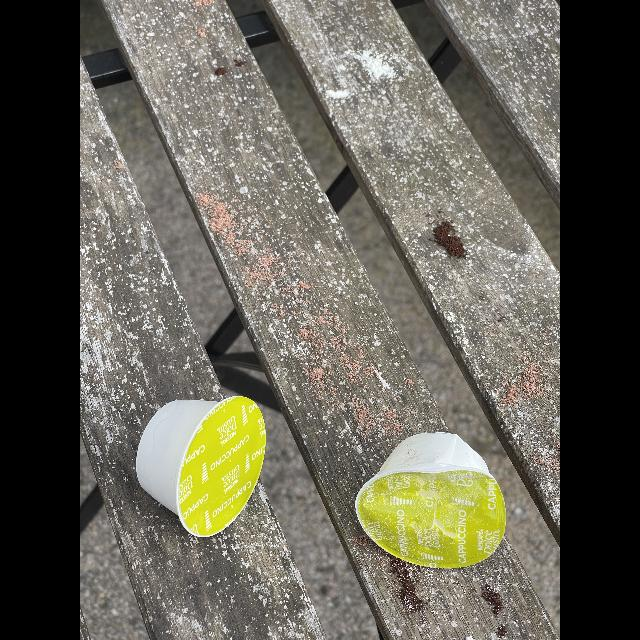damaged_capsule: (350, 425, 512, 579)
intact_capsule: (132, 391, 276, 551)
